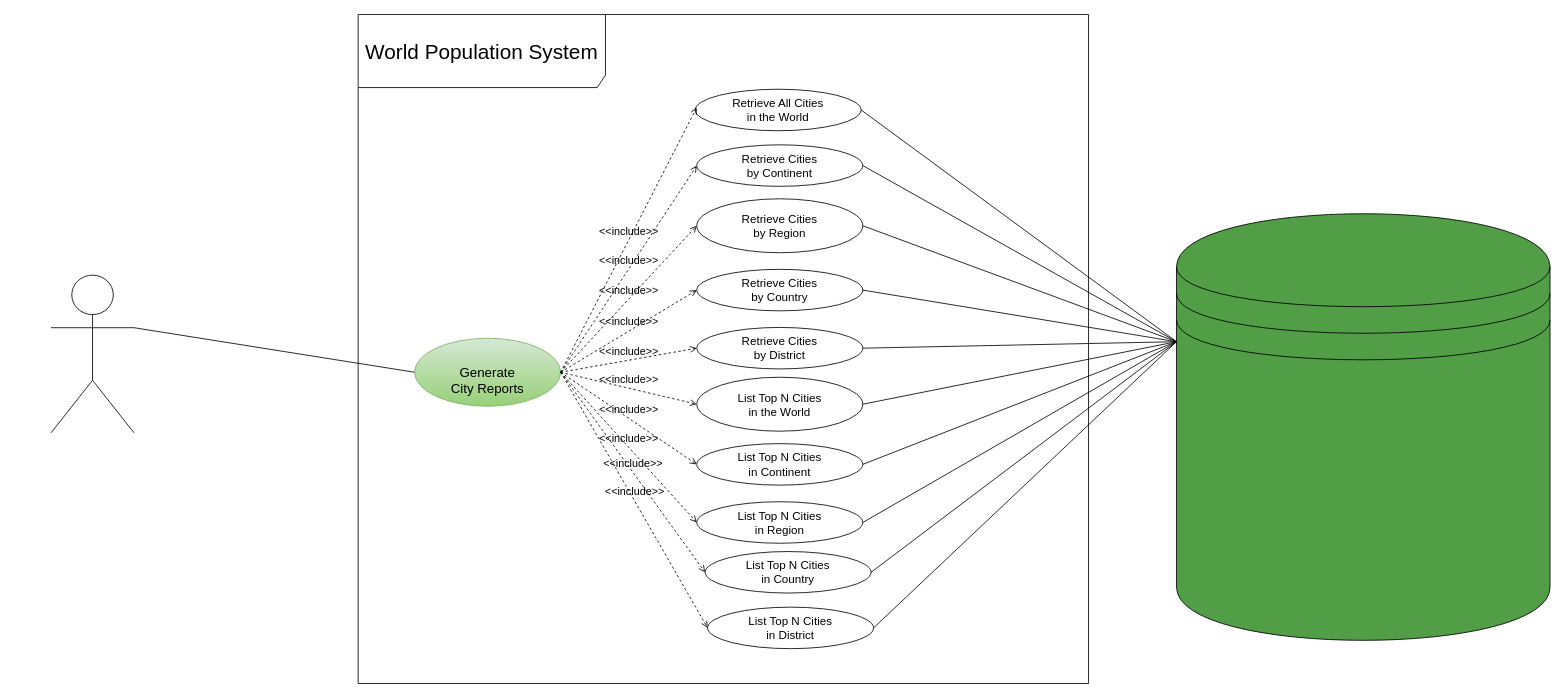
The diagram is 1565 pixels wide and 698 high, and some of its shapes have lost their labels. The shapes that lost their labels are listed below. From the top down, each one's centre as x and y in pixels, then its label:
At [92,353]: "Report Analyst".
At [1363,426]: "World Population DB".
